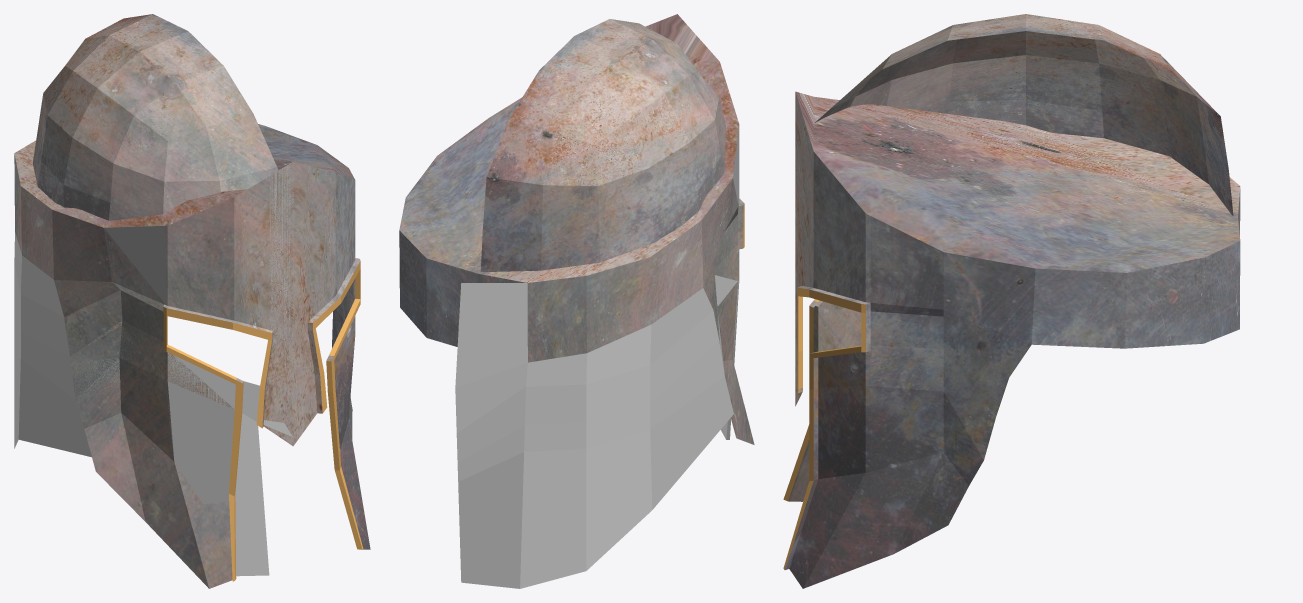
File: hED.glb
The picture shows the model from 3 angles, left to right: view 1: azimuth 30°, elevation 25°; view 2: azimuth 150°, elevation 25°; view 3: azimuth 270°, elevation 25°; orthographic projection. The views are drawn at different scales.
Parts seen in each view (by area): view 1: Mask, Head, Cylinder.001; view 2: Cylinder.001, Head, Mask; view 3: Mask, Head.
Boxes of the visible parts, x1,y1,x2,y2 form: Mask: (14, 124, 370, 588); Head: (32, 14, 278, 220); Cylinder.001: (14, 162, 293, 576); Cylinder.001: (455, 126, 739, 588); Head: (480, 19, 725, 271); Mask: (399, 14, 754, 444); Mask: (783, 91, 1240, 588); Head: (815, 14, 1233, 215).
Size of the model in its own units: 3.03 by 5.09 by 4.52.
2 materials, 1 textured.
